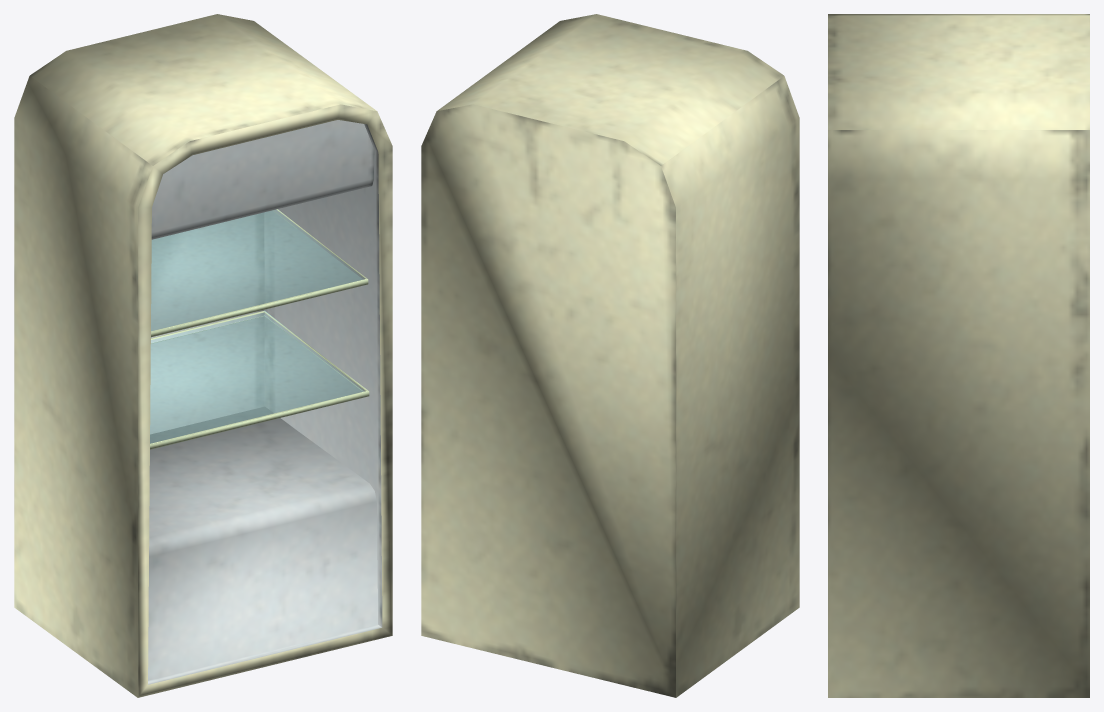
Rendered from fridge_close.obj.
3 views of the same model, side by side, from view 1: azimuth 30°, elevation 25°; view 2: azimuth 150°, elevation 25°; view 3: azimuth 270°, elevation 25° (orthographic). The views are drawn at different scales.
Parts seen in each view (by area): view 1: fridge_close; view 2: fridge_close; view 3: fridge_close.
Boxes of the visible parts, x1,y1,x2,y2 form: fridge_close: (14,14,392,697); fridge_close: (421,14,799,697); fridge_close: (828,14,1089,697).
Size of the model in its own units: 0.9146 by 1.87 by 0.7676.
